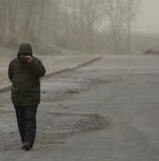person: (7, 37, 46, 152)
